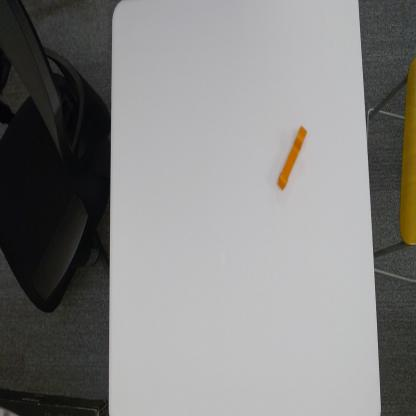Screwdriver: (275, 121, 308, 194)
